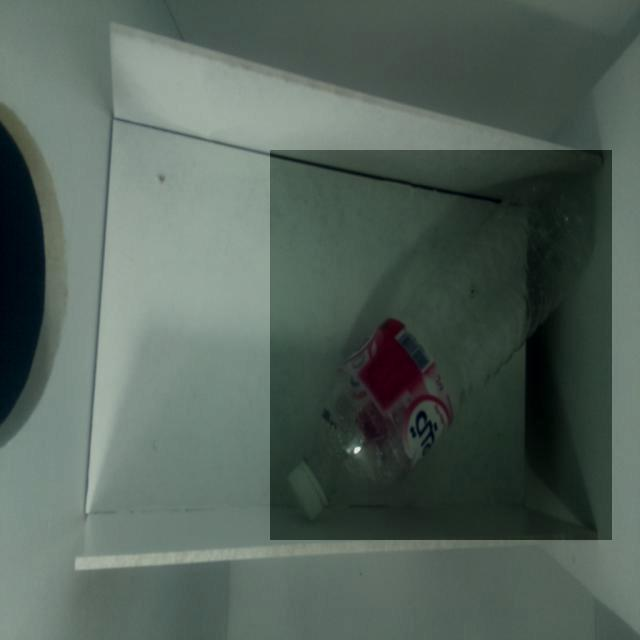bottle: (269, 150, 612, 540)
